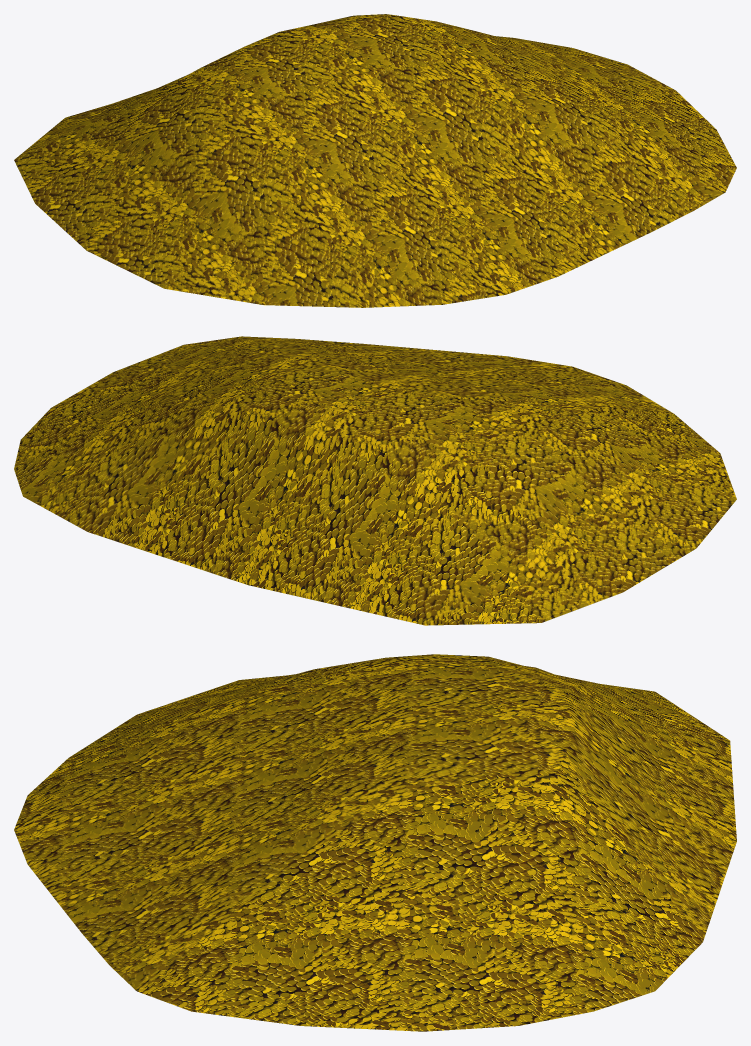
File: INST_SM_GOLDPILE_LARGEA.fbx
3 views of the same model, one above another, from view 1: azimuth 30°, elevation 25°; view 2: azimuth 150°, elevation 25°; view 3: azimuth 270°, elevation 25° (orthographic). The views are drawn at different scales.
Visible parts, largest first — view 1: INST_SM_GOLDPILE_LARGEA; view 2: INST_SM_GOLDPILE_LARGEA; view 3: INST_SM_GOLDPILE_LARGEA.
Boxes of the visible parts, <box> form: INST_SM_GOLDPILE_LARGEA: <box>14,14,736,307</box>; INST_SM_GOLDPILE_LARGEA: <box>14,336,736,625</box>; INST_SM_GOLDPILE_LARGEA: <box>14,654,736,1031</box>.
Bounding box in the file's own units: 157500 × 26467 × 132500.
1 material, 1 textured.
